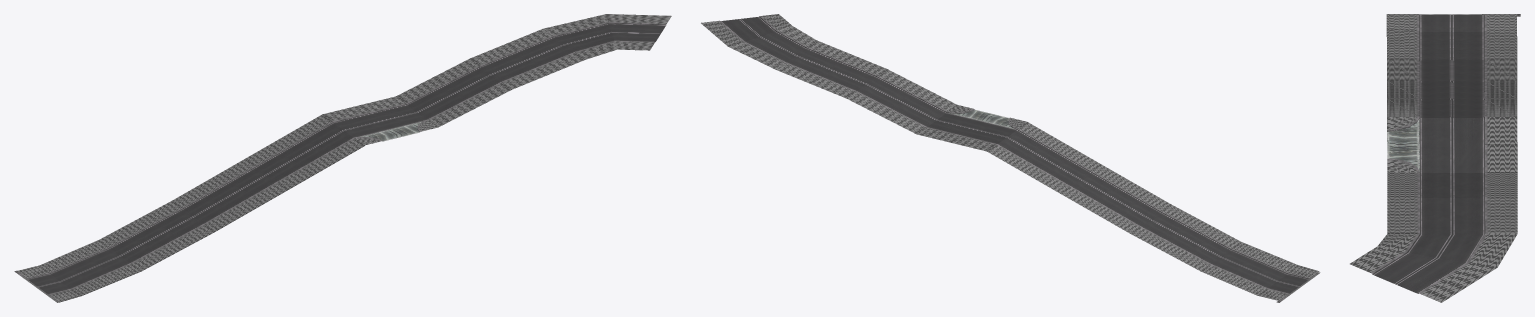
File: roadssfs05.obj
The picture shows the model from 3 angles, left to right: view 1: azimuth 30°, elevation 25°; view 2: azimuth 150°, elevation 25°; view 3: azimuth 270°, elevation 25°; orthographic projection. The views are drawn at different scales.
Visible parts, largest first — view 1: ROADSsfs05; view 2: ROADSsfs05; view 3: ROADSsfs05.
Part boxes in pixels (<box>): ROADSsfs05: <box>14,14,671,302</box>; ROADSsfs05: <box>701,14,1320,302</box>; ROADSsfs05: <box>1350,14,1520,302</box>.
Bounding box in the file's own units: 172 × 31.21 × 26.29.
4 materials, 4 textured.
